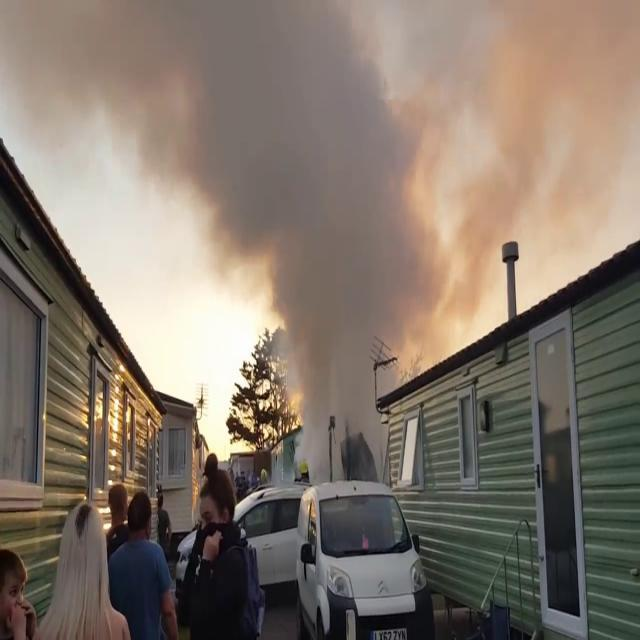Smoke: (66, 1, 636, 354)
